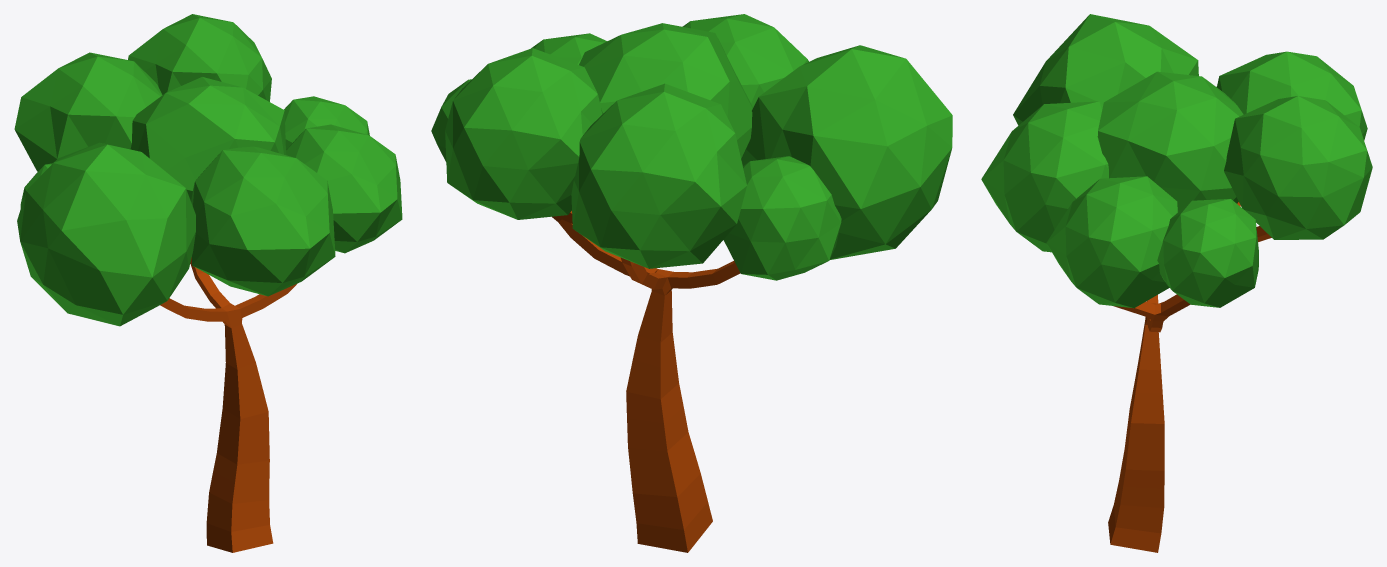
File: pohon.fbx
The picture shows the model from 3 angles, left to right: view 1: azimuth 30°, elevation 25°; view 2: azimuth 150°, elevation 25°; view 3: azimuth 270°, elevation 25°; orthographic projection. The views are drawn at different scales.
Parts seen in each view (by area): view 1: Pohon; view 2: Pohon; view 3: Pohon.
Part boxes in pixels (<box>): Pohon: <box>14,14,402,552</box>; Pohon: <box>431,14,952,552</box>; Pohon: <box>981,14,1372,552</box>.
Size of the model in its own units: 1033 by 1209 by 917.
